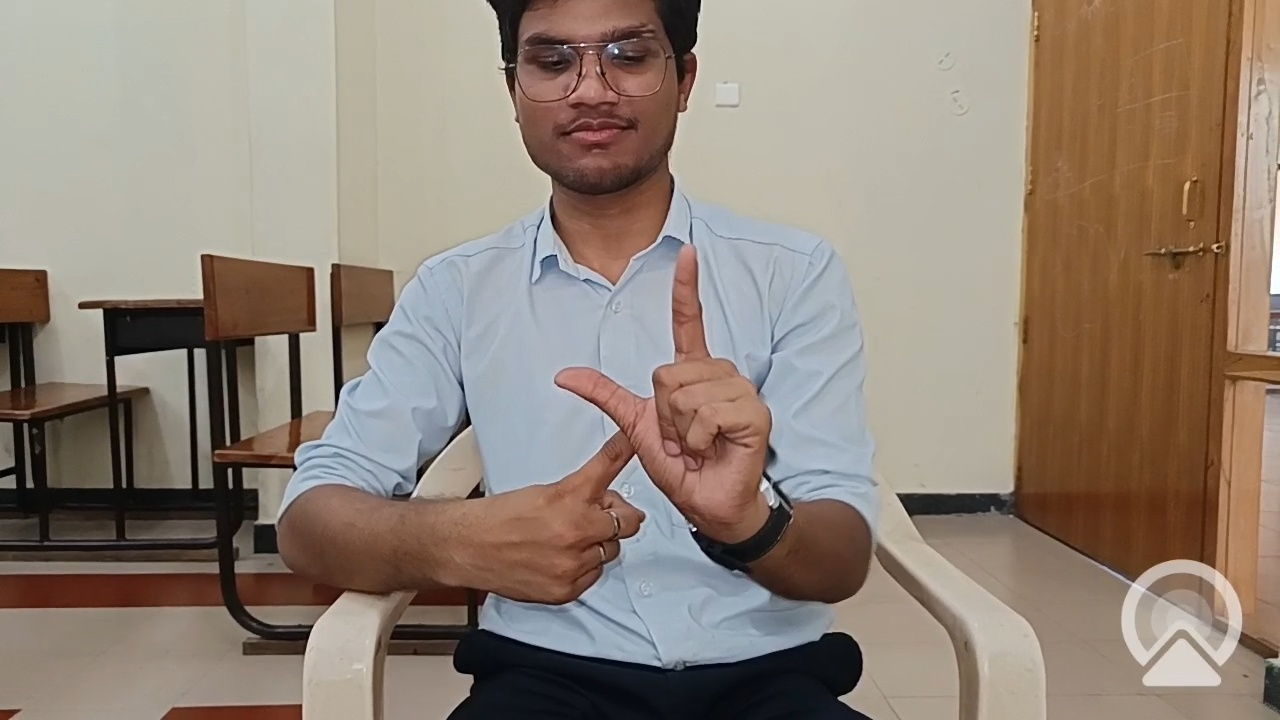Y: (426, 233, 798, 626)
